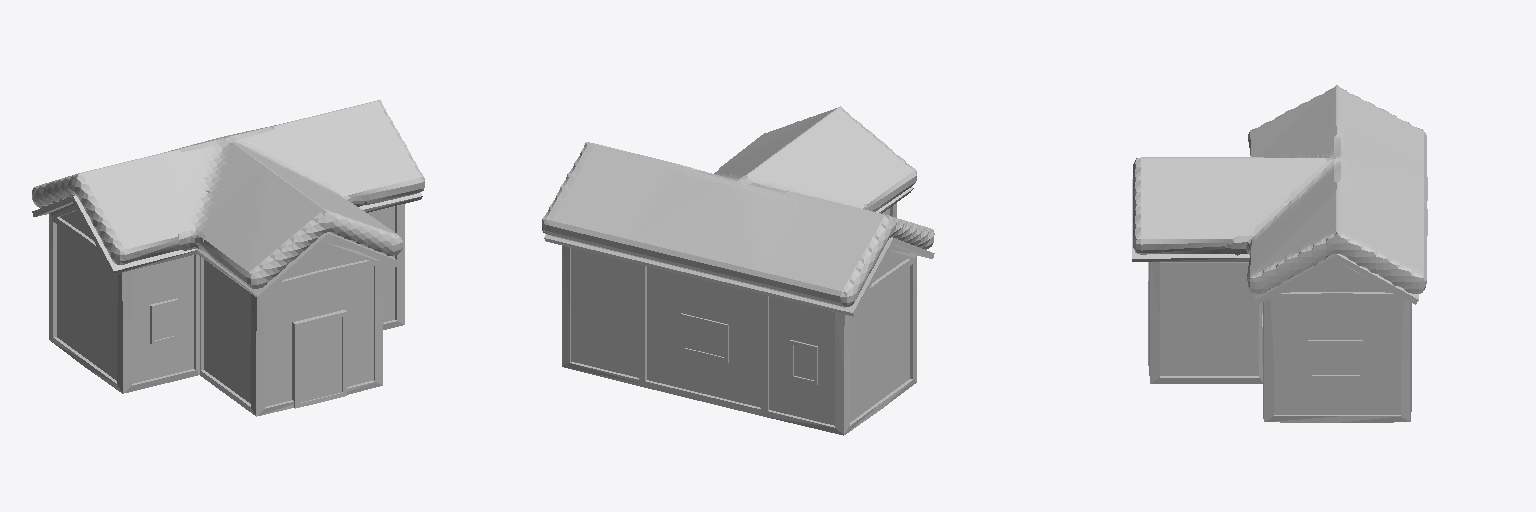
File: House_7.obj
3 renders of one model, left to right at view 1: azimuth 30°, elevation 25°; view 2: azimuth 150°, elevation 25°; view 3: azimuth 270°, elevation 25°, orthographic.
Parts seen in each view (by area): view 1: Snow_on_Roof_2, Base_Building_2, Frame_2, Door_2, Roof_2, Wimdow_2_3; view 2: Snow_on_Roof_2, Base_Building_2, Frame_2, Roof_2, Window_2_1, Window_2_2; view 3: Snow_on_Roof_2, Base_Building_2, Frame_2, Roof_2, Window_2_5.
Boxes of the visible parts, x1=… form: Snow_on_Roof_2: x1=32, y1=100, x2=424, y2=288; Base_Building_2: x1=57, y1=207, x2=394, y2=406; Frame_2: x1=49, y1=203, x2=404, y2=416; Door_2: x1=292, y1=310, x2=346, y2=408; Roof_2: x1=32, y1=192, x2=422, y2=299; Wimdow_2_3: x1=150, y1=298, x2=178, y2=343; Snow_on_Roof_2: x1=542, y1=106, x2=934, y2=307; Base_Building_2: x1=571, y1=208, x2=909, y2=425; Frame_2: x1=562, y1=203, x2=916, y2=435; Roof_2: x1=544, y1=187, x2=934, y2=316; Window_2_1: x1=680, y1=313, x2=728, y2=362; Window_2_2: x1=790, y1=340, x2=817, y2=384; Snow_on_Roof_2: x1=1133, y1=85, x2=1427, y2=293; Base_Building_2: x1=1160, y1=262, x2=1400, y2=414; Frame_2: x1=1149, y1=260, x2=1411, y2=422; Roof_2: x1=1132, y1=179, x2=1418, y2=304; Window_2_5: x1=1308, y1=340, x2=1362, y2=378.
Size of the model in its own units: 1.91 by 1.16 by 1.58.